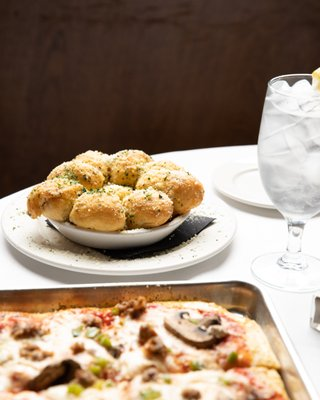curry: (1, 137, 320, 399)
sandwich: (0, 295, 291, 400), (251, 70, 320, 294)
